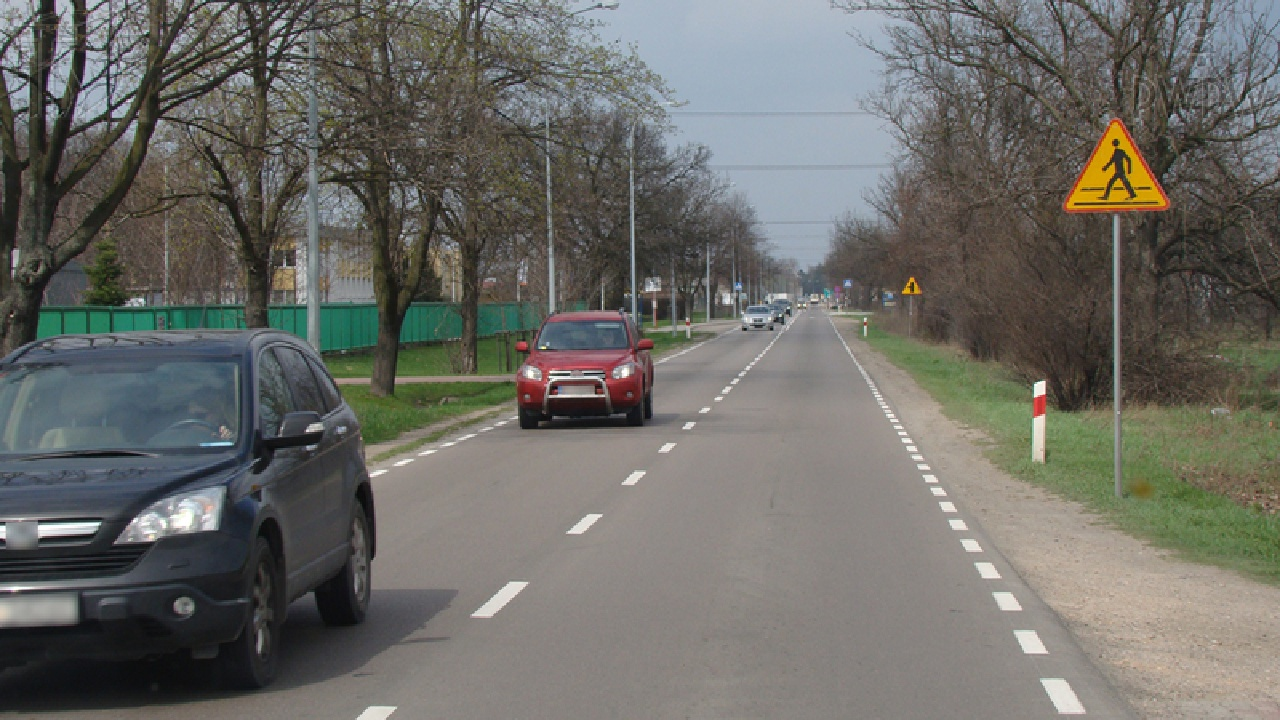A16: (1061, 117, 1171, 212)
A6c: (901, 276, 922, 295)
